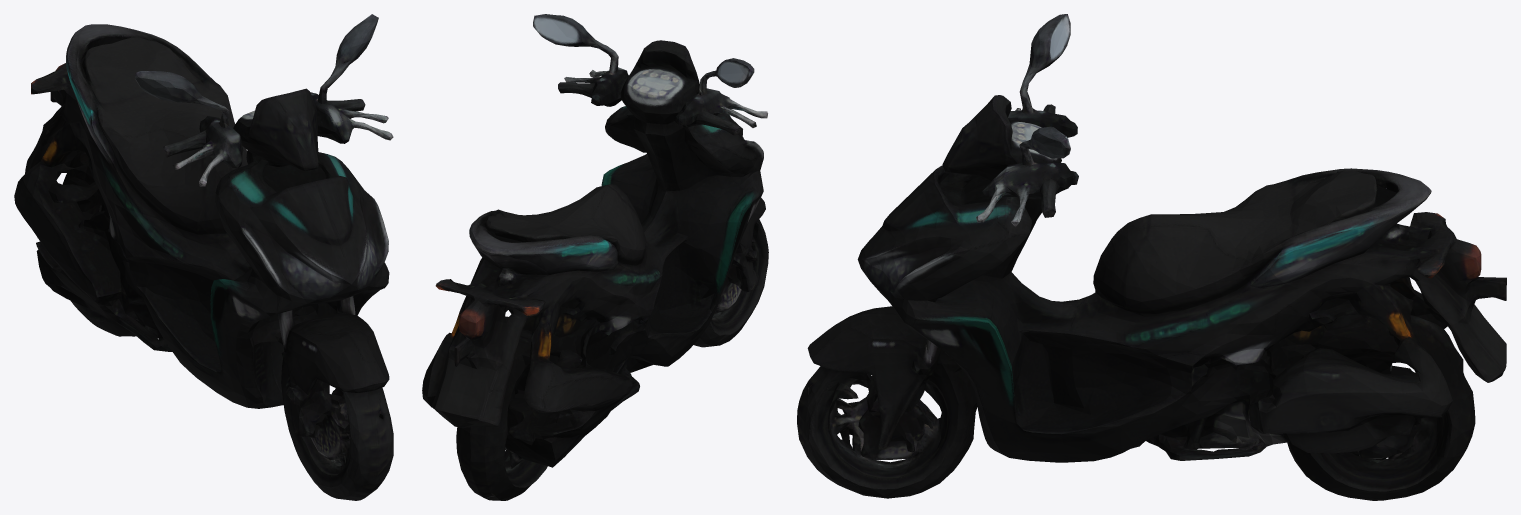
Rendered from RISE NVX 170.glb.
3 renders of one model, left to right at view 1: azimuth 30°, elevation 25°; view 2: azimuth 150°, elevation 25°; view 3: azimuth 270°, elevation 25°, orthographic. The views are drawn at different scales.
Parts seen in each view (by area): view 1: world; view 2: world; view 3: world.
Part boxes in pixels (left/top/right/bottom): world: left=14, top=14, right=393, bottom=500; world: left=422, top=14, right=768, bottom=500; world: left=797, top=14, right=1506, bottom=500.
Size of the model in its own units: 0.4258 by 0.6571 by 1.
1 material, 1 textured.
